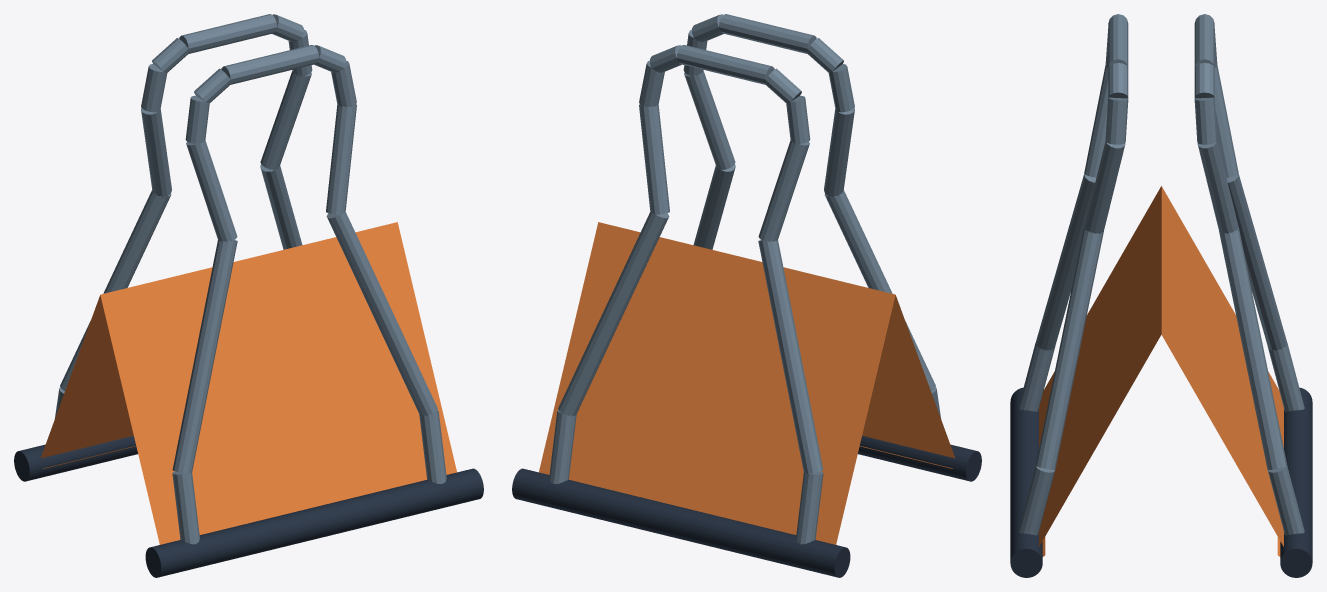
File: binder.glb
The picture shows the model from 3 angles, left to right: view 1: azimuth 30°, elevation 25°; view 2: azimuth 150°, elevation 25°; view 3: azimuth 270°, elevation 25°; orthographic projection. The views are drawn at different scales.
Parts seen in each view (by area): view 1: fold 0, front lip, fold 1, wire 11, wire 19, rear lip, wire -11, wire 18, wire 12, wire -18, wire -15, wire 15 (+9 smaller); view 2: fold 1, rear lip, fold 0, wire -11, wire -19, front lip, wire 11, wire -18, wire -12, wire 18, wire 15, wire -15 (+9 smaller); view 3: fold 0, fold 1, wire -19, wire 19, rear lip, front lip, wire -11, wire 11, wire -18, wire 18, wire -110, wire 110 (+10 smaller).
Part boxes in pixels (x1,y1,x2,y2): fold 0: [100, 222, 456, 544]; front lip: [145, 468, 483, 577]; fold 1: [41, 295, 133, 458]; wire 11: [172, 240, 237, 473]; wire 19: [326, 211, 437, 416]; rear lip: [14, 436, 137, 481]; wire -11: [60, 190, 171, 391]; wire 18: [326, 104, 356, 214]; wire 12: [186, 140, 237, 241]; wire -18: [260, 70, 311, 169]; wire -15: [179, 14, 276, 53]; wire 15: [221, 45, 319, 84]; fold 1: [539, 222, 895, 544]; rear lip: [512, 468, 850, 577]; fold 0: [862, 295, 954, 458]; wire -11: [758, 240, 823, 473]; wire -19: [558, 211, 669, 416]; front lip: [858, 436, 981, 481]; wire 11: [824, 190, 935, 391]; wire -18: [639, 104, 669, 214]; wire -12: [758, 140, 809, 241]; wire 18: [684, 70, 735, 169]; wire 15: [719, 14, 816, 53]; wire -15: [676, 45, 774, 84]; fold 0: [1039, 186, 1161, 546]; fold 1: [1161, 186, 1283, 546]; wire -19: [1219, 228, 1287, 469]; wire 19: [1035, 228, 1103, 469]; rear lip: [1280, 387, 1312, 577]; front lip: [1010, 387, 1042, 577]; wire -11: [1226, 174, 1287, 350]; wire 11: [1035, 174, 1096, 350]; wire -18: [1197, 141, 1238, 233]; wire 18: [1084, 141, 1125, 233]; wire -110: [1267, 466, 1304, 535]; wire 110: [1018, 466, 1055, 535].
Bounding box in the file's own units: 1.02 × 1.36 × 0.806.
